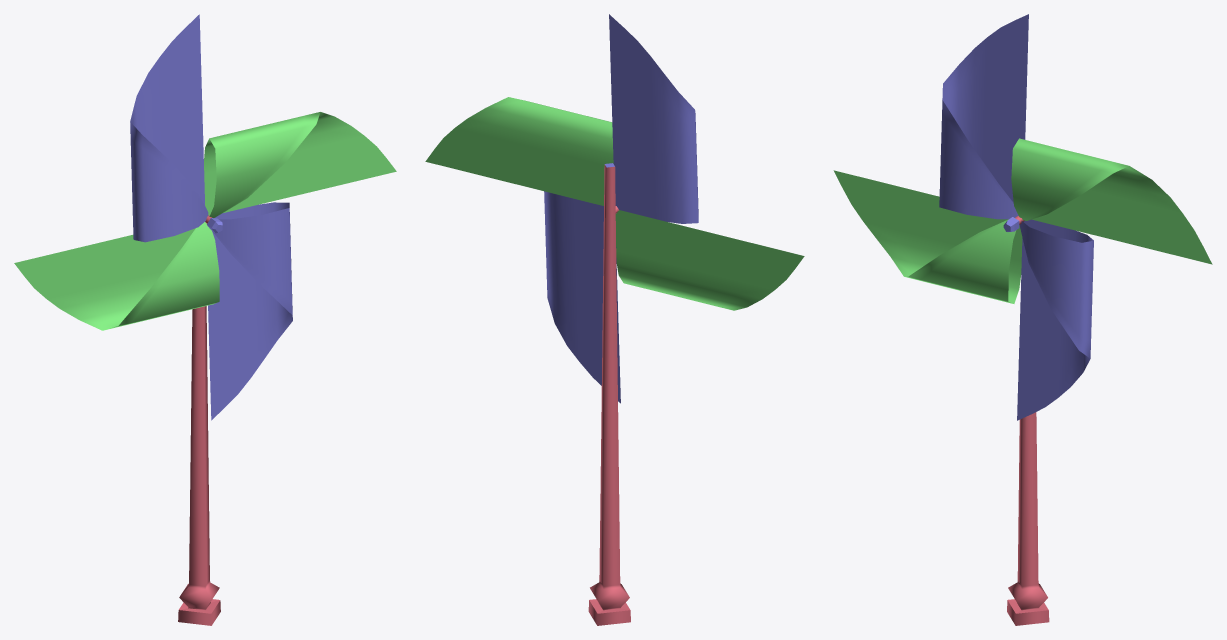
The model's file is Pinwheel.fbx.
The picture shows the model from 3 angles, left to right: view 1: azimuth 30°, elevation 25°; view 2: azimuth 150°, elevation 25°; view 3: azimuth 330°, elevation 25°; orthographic projection.
Parts seen in each view (by area): view 1: Pinwheel_Wing_3, Pinwheel_Wing_4, Pinwheel_Wing_2, Pinwheel_Wing_1, Pinwheel_Stick; view 2: Pinwheel_Wing_4, Pinwheel_Wing_1, Pinwheel_Wing_3, Pinwheel_Wing_2, Pinwheel_Stick; view 3: Pinwheel_Wing_4, Pinwheel_Wing_1, Pinwheel_Wing_3, Pinwheel_Wing_2, Pinwheel_Stick.
Boxes of the visible parts, x1,y1,x2,y2 form: Pinwheel_Wing_3: [14, 222, 219, 330]; Pinwheel_Wing_4: [130, 14, 208, 242]; Pinwheel_Wing_2: [208, 202, 292, 420]; Pinwheel_Wing_1: [204, 112, 396, 217]; Pinwheel_Stick: [178, 215, 222, 625]; Pinwheel_Wing_4: [609, 14, 698, 223]; Pinwheel_Wing_1: [425, 97, 613, 205]; Pinwheel_Wing_3: [615, 210, 804, 310]; Pinwheel_Wing_2: [544, 191, 620, 403]; Pinwheel_Stick: [588, 163, 630, 625]; Pinwheel_Wing_4: [939, 14, 1028, 219]; Pinwheel_Wing_1: [1011, 138, 1212, 264]; Pinwheel_Wing_3: [833, 170, 1022, 303]; Pinwheel_Wing_2: [1017, 219, 1093, 420]; Pinwheel_Stick: [1003, 216, 1049, 625].
Size of the model in its own units: 39.87 by 60.27 by 6.08.
